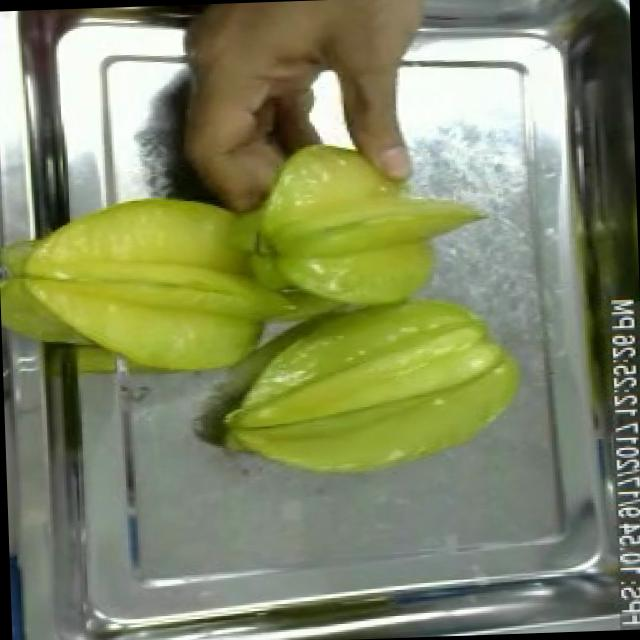fruit: (202, 275, 540, 496), (0, 177, 294, 393), (232, 125, 464, 329), (172, 0, 438, 93)
